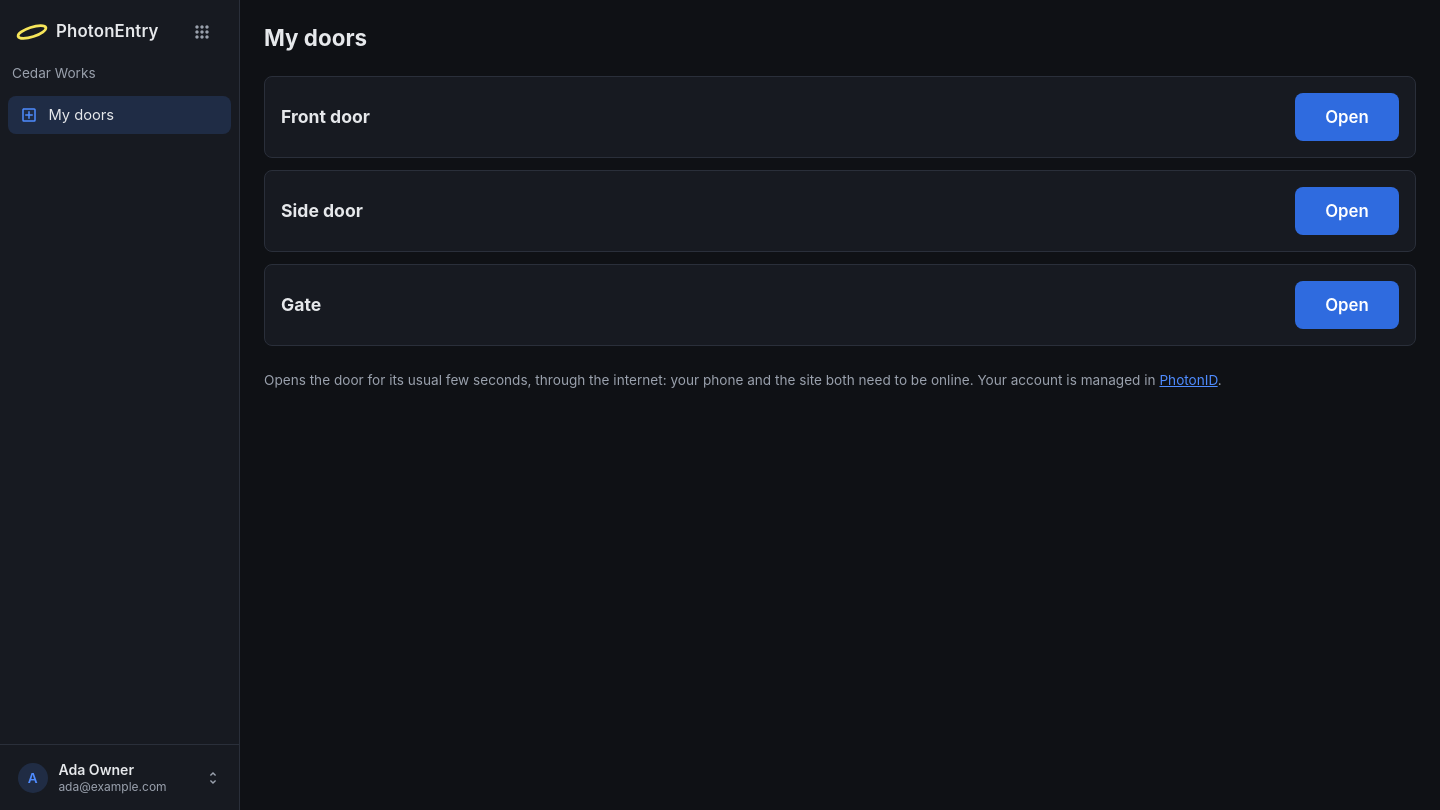
Scenario: my doors › a door that refuses, a controller that does not answer, and an open that is refused
Click the button "Open" in the row of "Front door".
click(1347, 117)  # box [1295,93,1399,141]
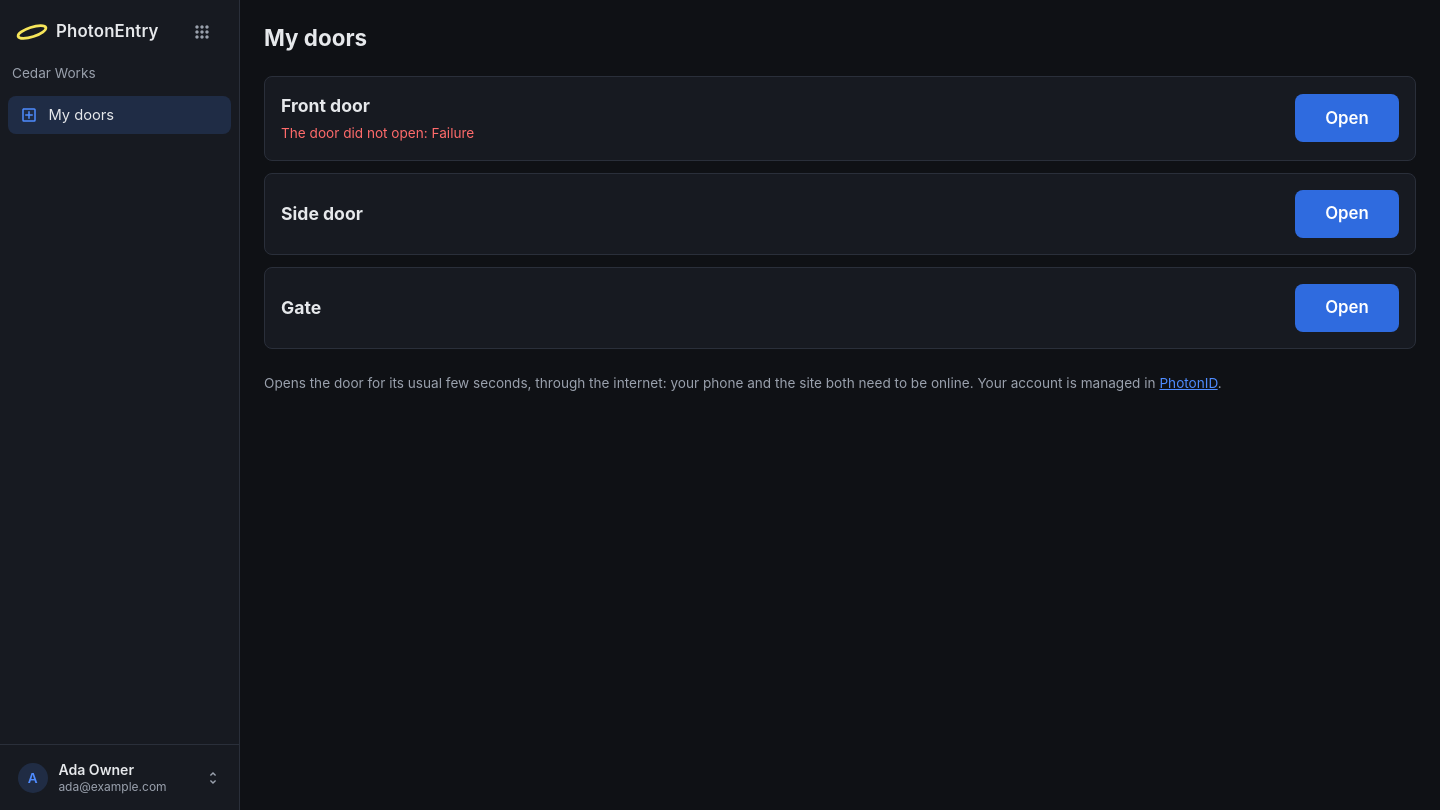
Now the message shows "did not open: Failure", box [281,125,474,141]
Click the button "Open" in the row of "Side door".
click(1347, 214)  # box [1295,190,1399,238]
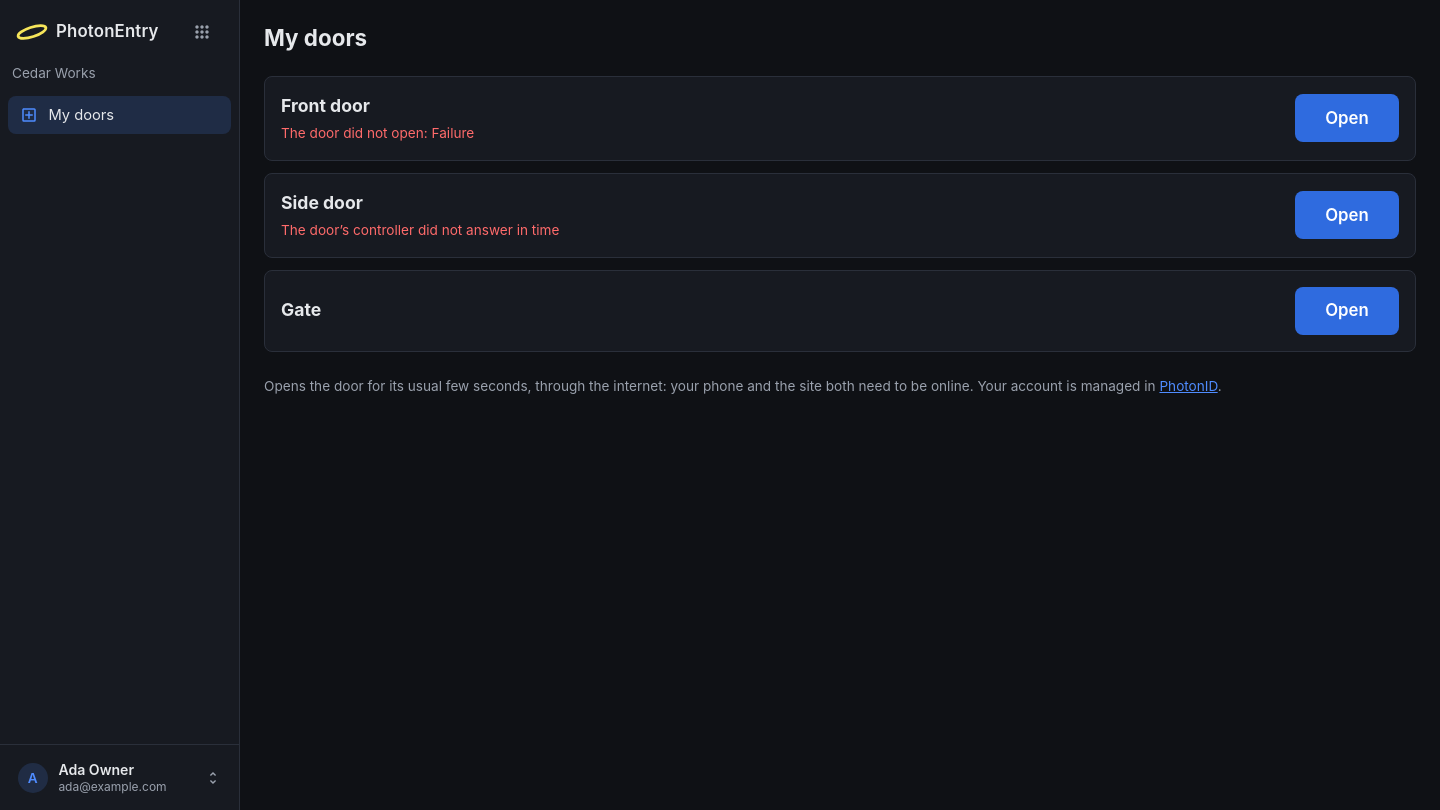
Now the message "The door’s controller did not answer in time" is shown, box [281,220,559,241]
Click the button "Open" in the row of "Gate".
click(1347, 311)  # box [1295,287,1399,335]
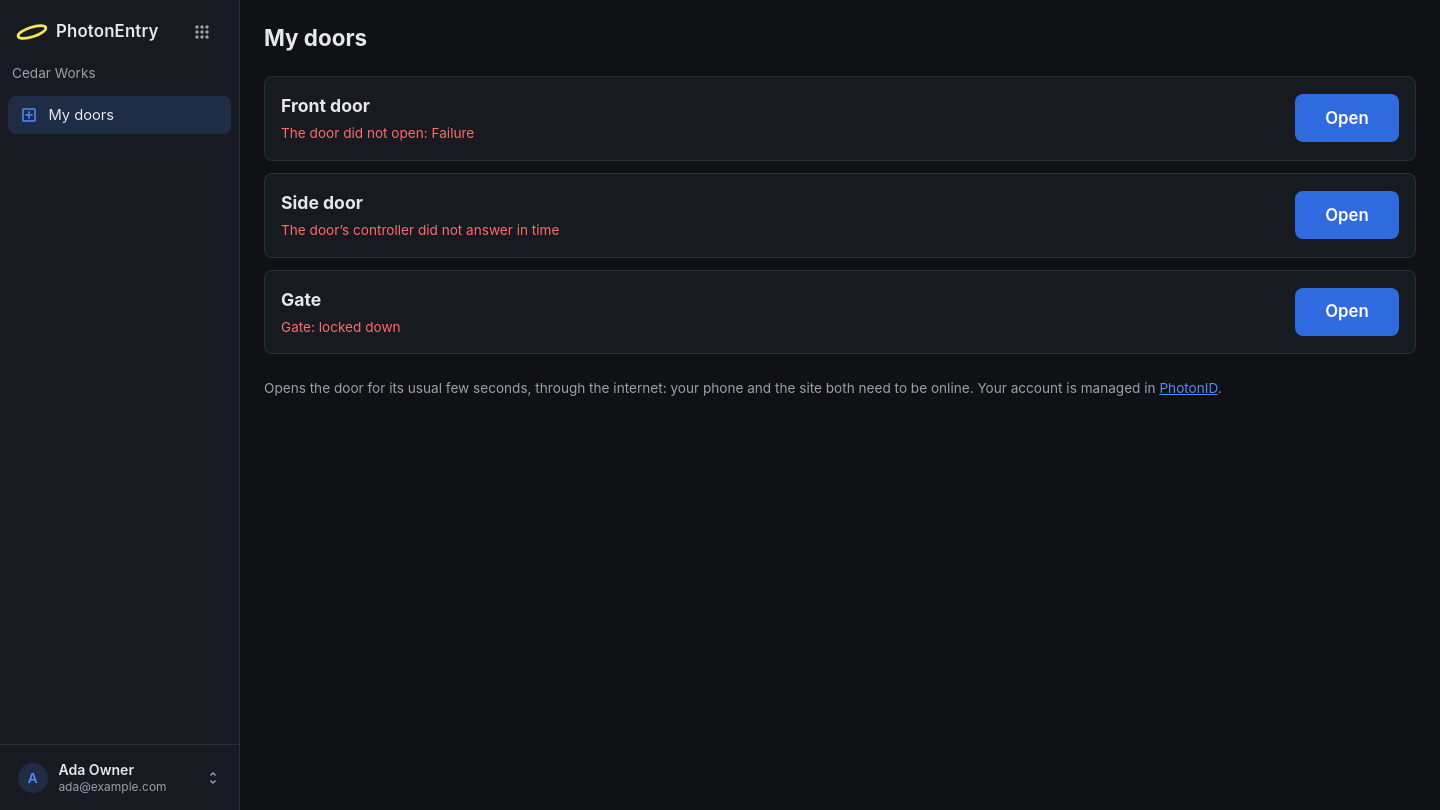
Now the text "Gate: locked down" is shown, box [281,317,401,337]
